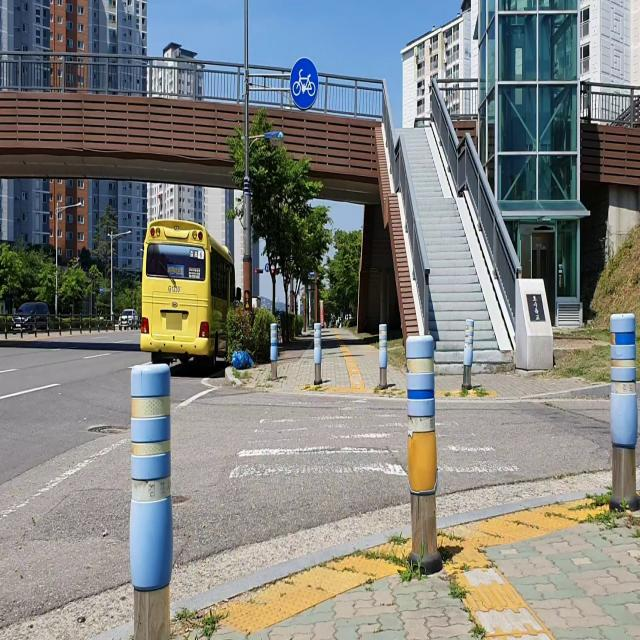횡단보도: (225, 395, 523, 483)
